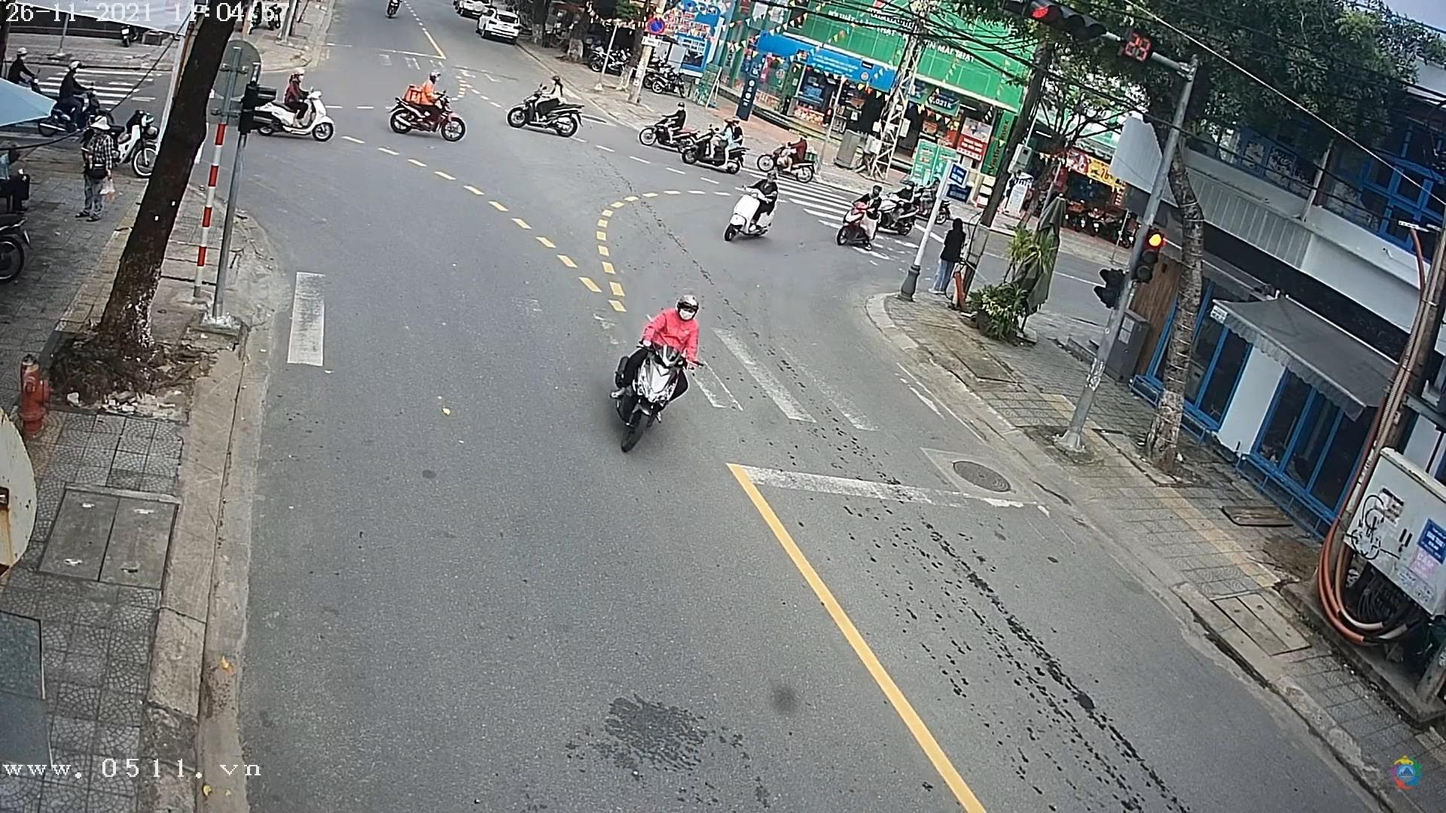motorbike: (607, 343, 693, 455), (245, 84, 338, 140), (724, 184, 781, 242), (390, 98, 468, 140), (507, 97, 583, 138), (682, 129, 741, 178), (759, 144, 820, 181), (836, 210, 878, 247), (386, 0, 402, 17)
